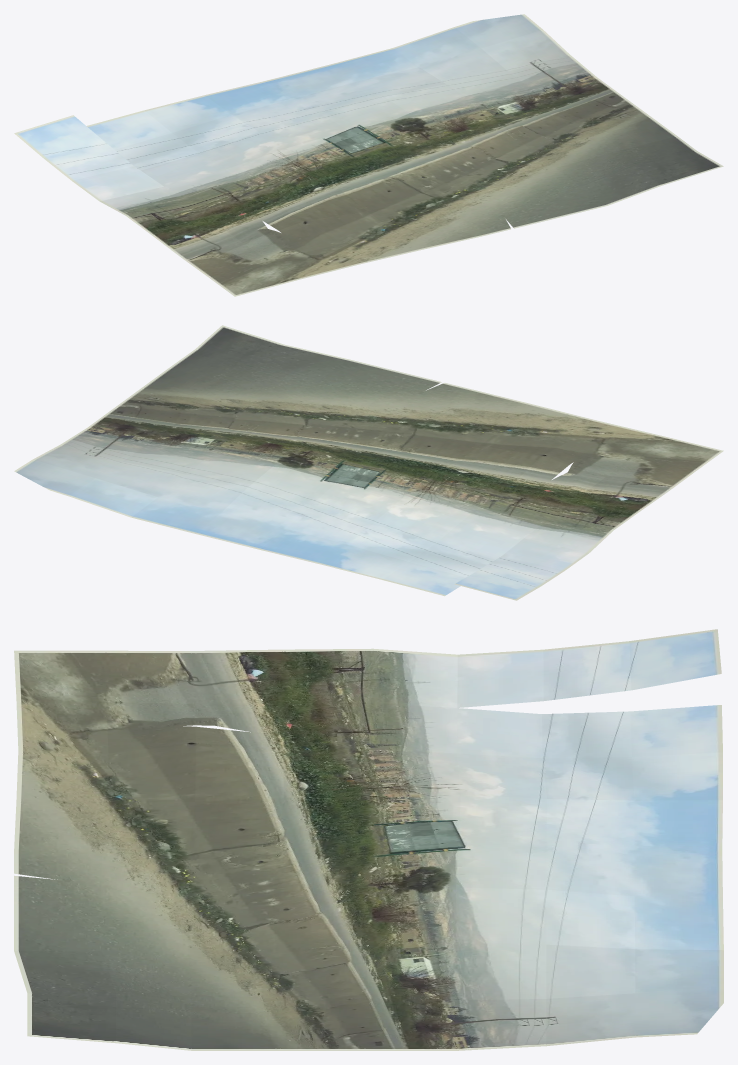
File: postcard.opt.glb
3 views of the same model, one above another, from view 1: azimuth 30°, elevation 25°; view 2: azimuth 150°, elevation 25°; view 3: azimuth 270°, elevation 25° (orthographic). The views are drawn at different scales.
Parts seen in each view (by area): view 1: Plane; view 2: Plane; view 3: Plane.
Boxes of the visible parts, x1=… form: Plane: x1=14, y1=14, x2=723, y2=296; Plane: x1=14, y1=325, x2=723, y2=600; Plane: x1=14, y1=629, x2=723, y2=1050.
Size of the model in its own units: 6.09 by 0.218 by 4.5.
Materials: 1 (1 with a texture image).
